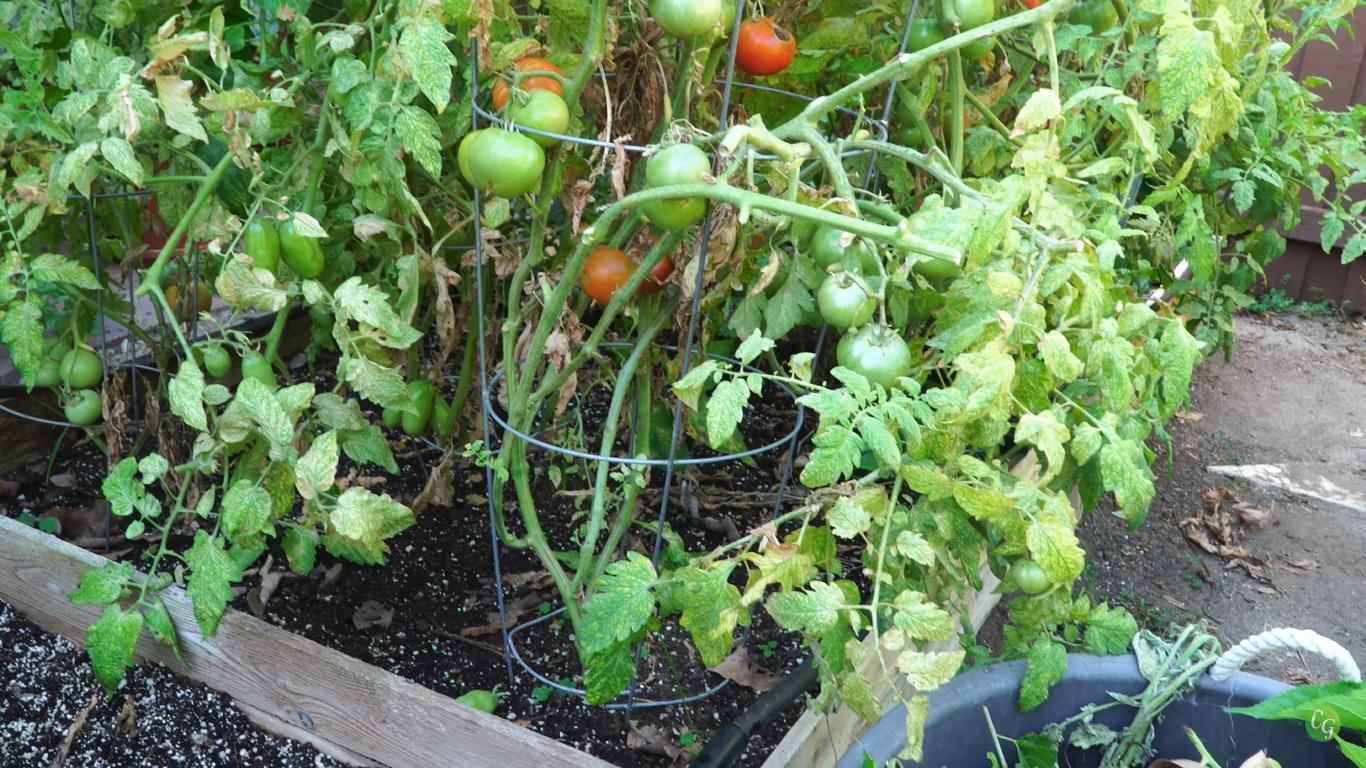Spider Mites: (671, 560, 752, 669), (581, 550, 658, 663), (1152, 27, 1223, 129), (181, 527, 243, 643), (963, 172, 1032, 272), (84, 602, 146, 704), (396, 15, 459, 115), (235, 371, 296, 463), (941, 352, 1016, 426), (1100, 437, 1156, 534), (331, 484, 418, 544), (344, 355, 424, 419), (1024, 518, 1087, 596), (0, 291, 46, 397), (797, 422, 867, 491), (764, 579, 847, 637), (1157, 316, 1203, 420), (335, 273, 406, 340), (96, 453, 164, 519), (1017, 631, 1071, 713), (1073, 594, 1139, 658), (393, 104, 445, 183), (1086, 336, 1138, 414), (165, 358, 214, 435), (897, 643, 970, 694), (703, 373, 750, 451), (892, 587, 957, 643), (213, 266, 287, 313), (293, 425, 339, 500), (221, 477, 273, 542), (952, 476, 1018, 525), (65, 560, 136, 605), (30, 252, 107, 293), (888, 692, 930, 765), (1007, 86, 1063, 140), (100, 135, 147, 190), (1037, 329, 1081, 386), (843, 672, 883, 727), (825, 494, 871, 539), (900, 463, 953, 501), (893, 528, 940, 569), (1072, 420, 1103, 467)
